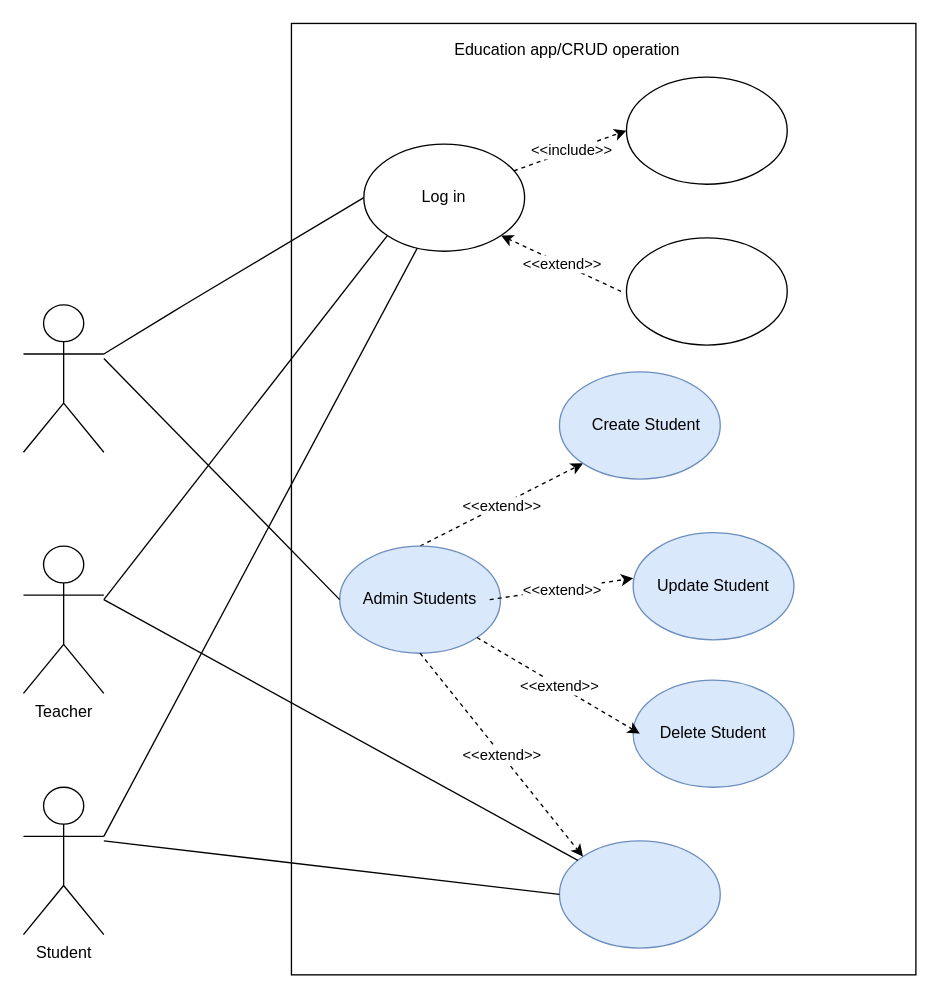
The diagram is 939 pixels wide and 998 high, and some of its shapes have lost their labels. Here are the shapes that lost their labels. From the top down, the centre of each, then its label:
the point at 706,130: Verify Password
the point at 706,291: Display Login Error
the point at 63,378: Admin
the point at 639,894: View Student
